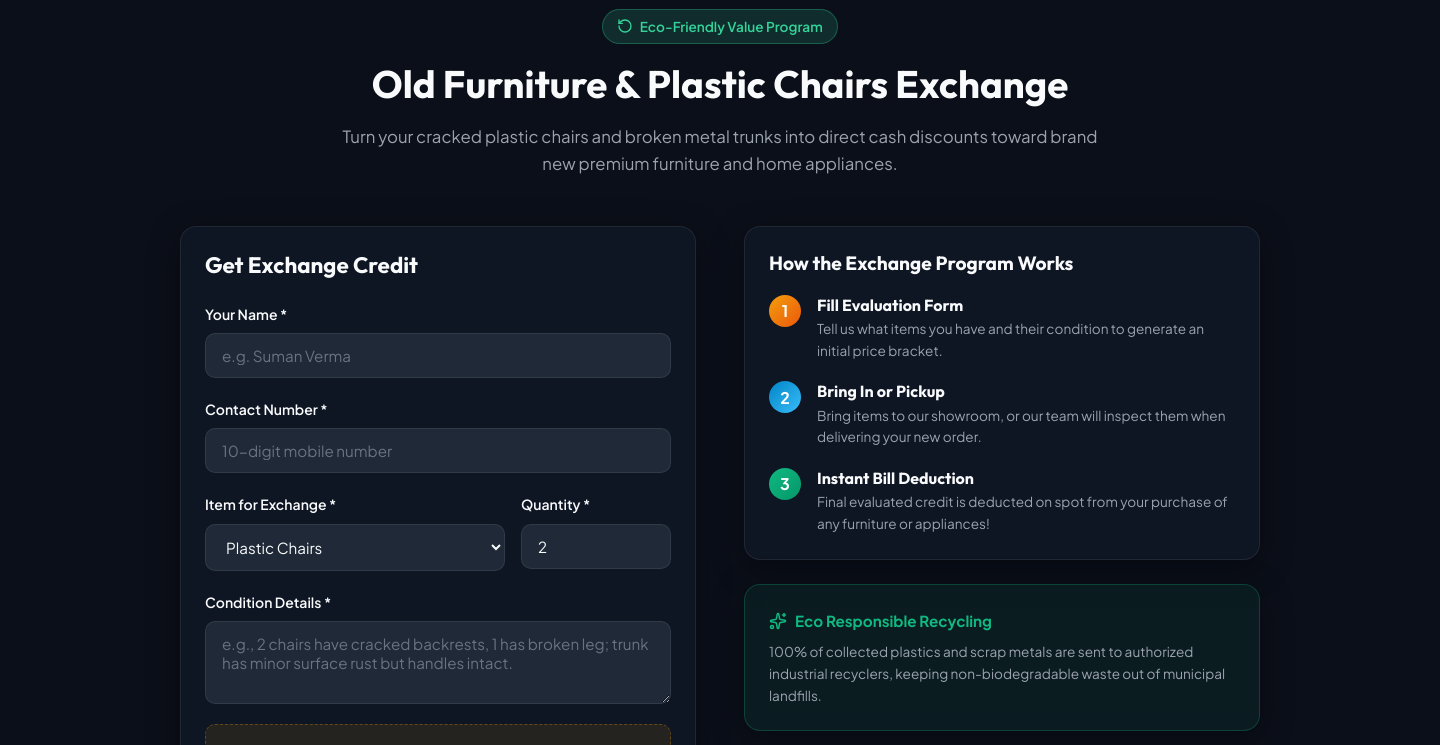
Scenario: ExchangeProgramPage Component › submits exchange request successfully
Type "Pooja Sharma" into the field labelled "Your Name *" at (438, 356), box top-left (205, 333), bottom-right (671, 378)
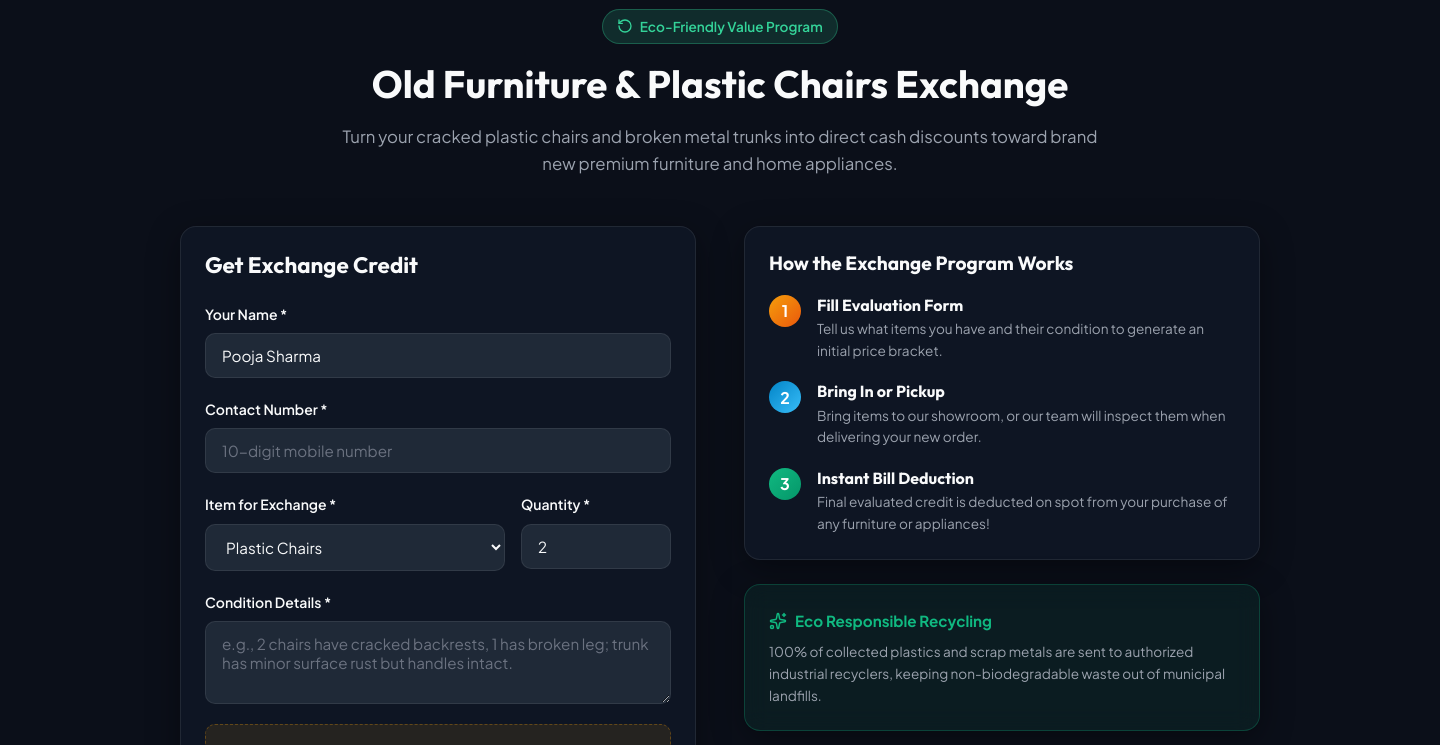
Type "9876501234" into the field labelled "Contact Number *" at (438, 451), box top-left (205, 428), bottom-right (671, 474)
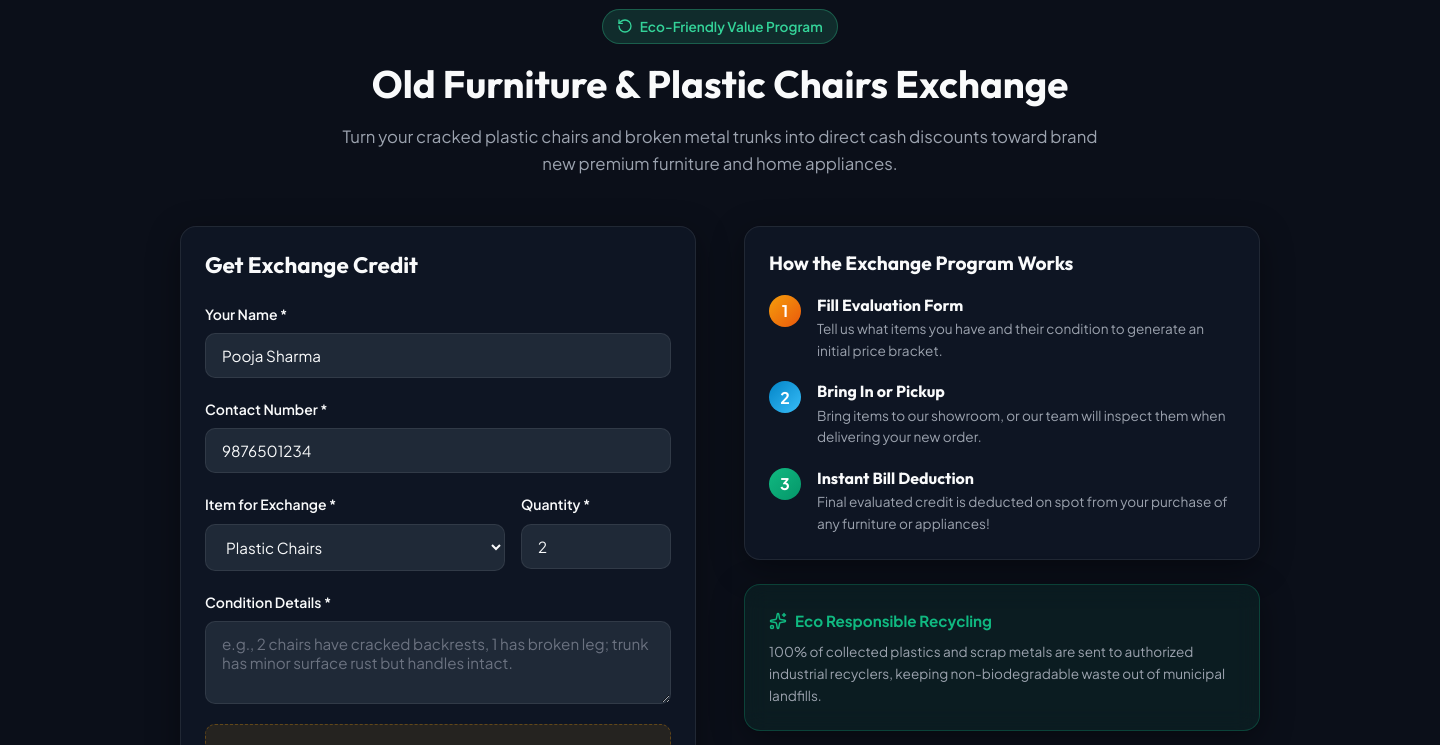
Replace the text in the number field labelled "Quantity *" with "4" at (596, 546), box top-left (521, 524), bottom-right (671, 569)
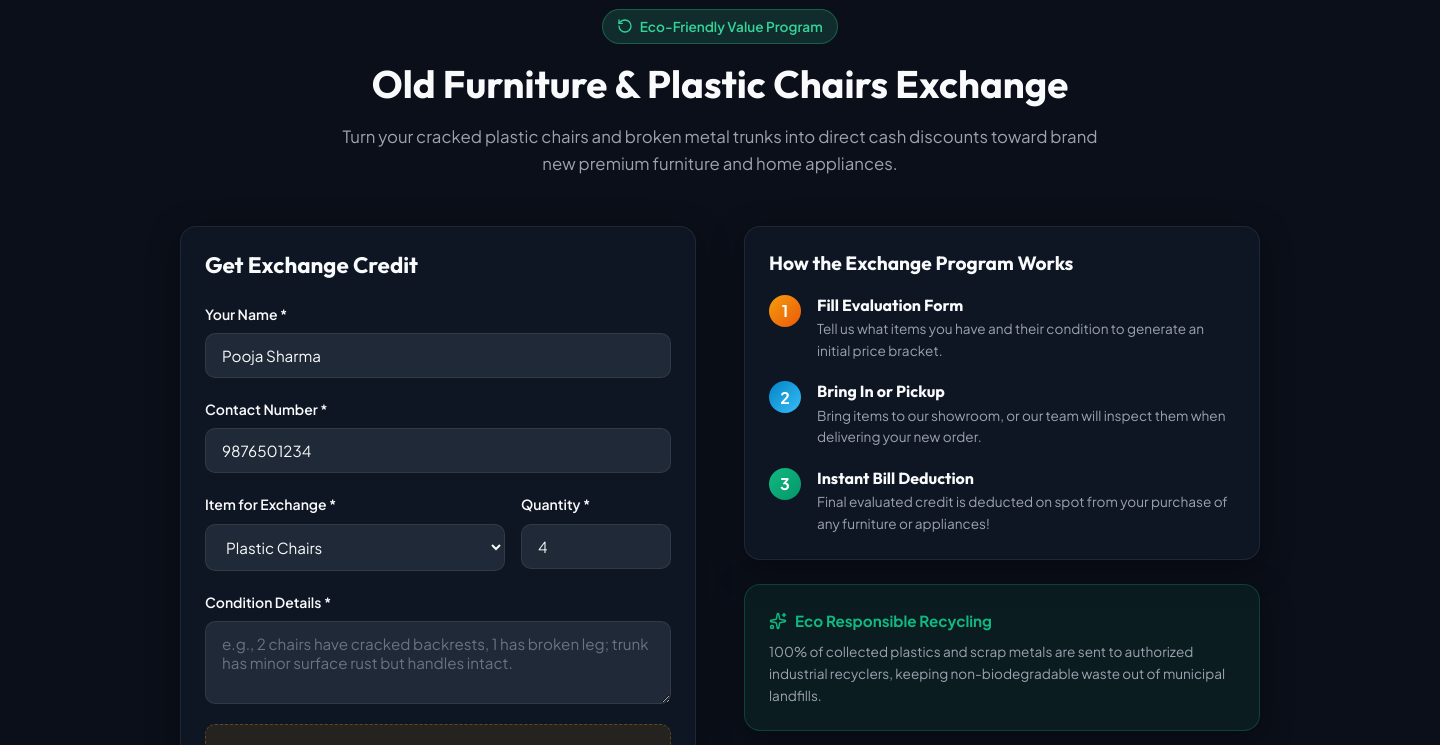
Replace the text in the text box labelled "Condition Details *" with "Cracked plastic legs on two chairs" at (438, 663), box top-left (205, 621), bottom-right (671, 704)
(page scrolled)
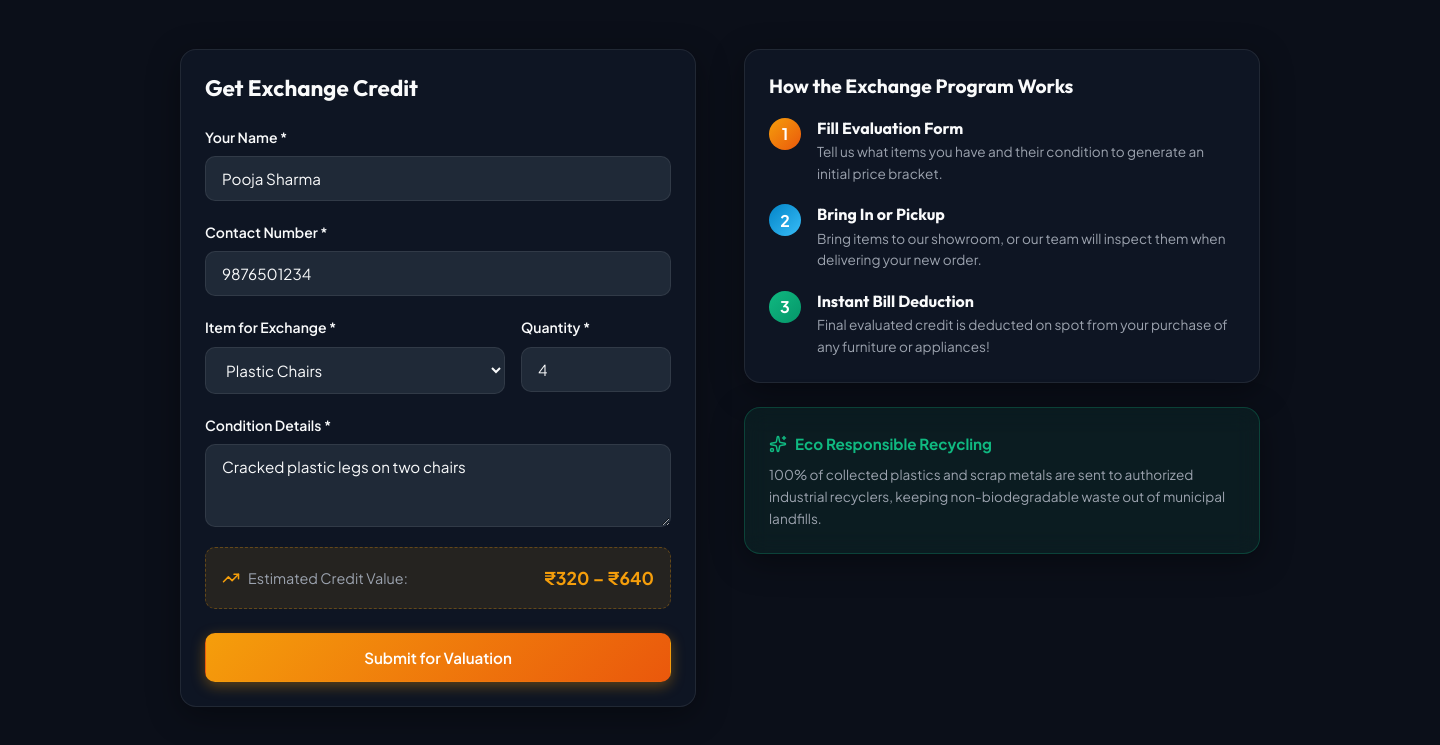
Click the button "Submit for Valuation" at (438, 658), box top-left (205, 633), bottom-right (671, 682)
(page scrolled)
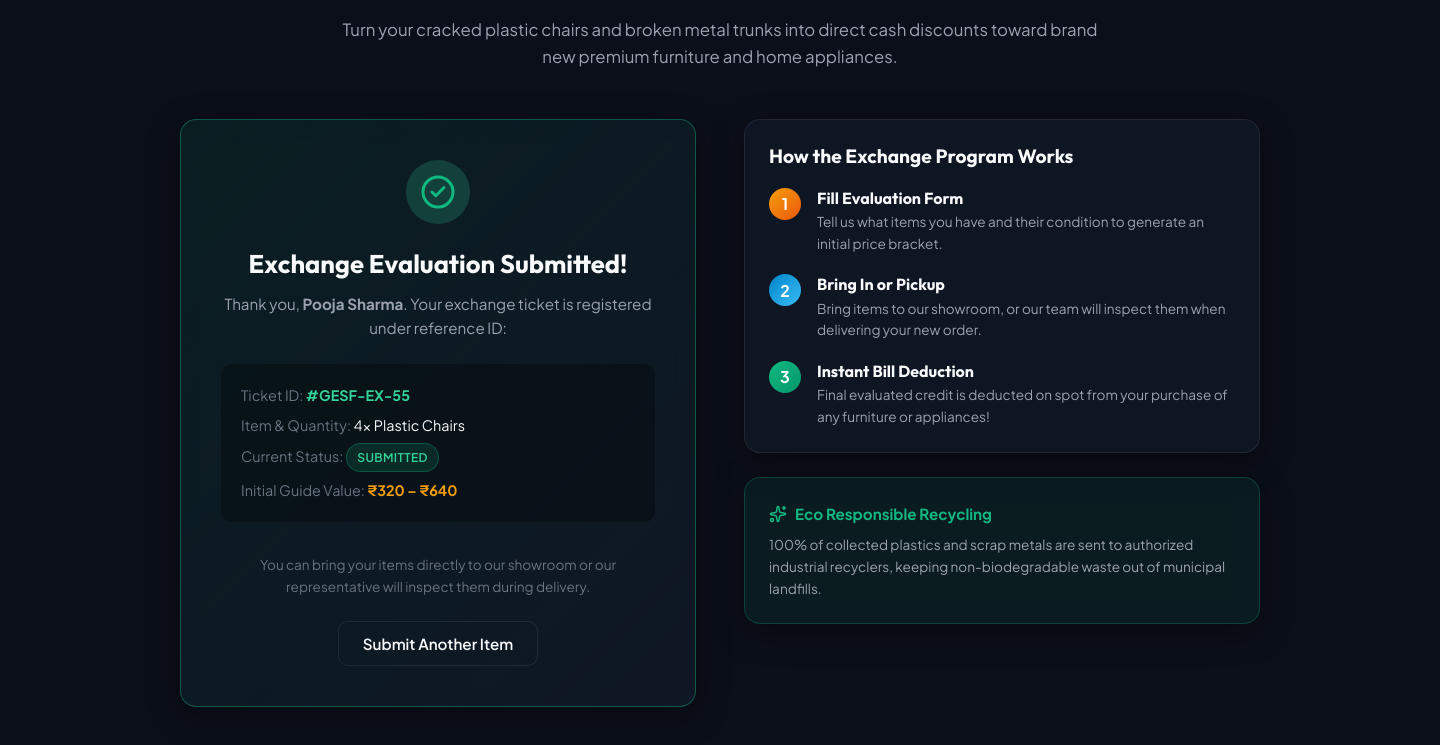
Now the heading "Exchange Evaluation Submitted!" is shown, box top-left (221, 248), bottom-right (655, 280)
Now the text "#GESF-EX-55" is shown, box top-left (306, 386), bottom-right (410, 404)
